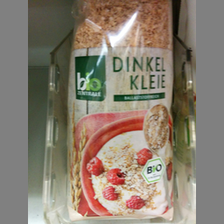cereal: (70, 1, 176, 217)
